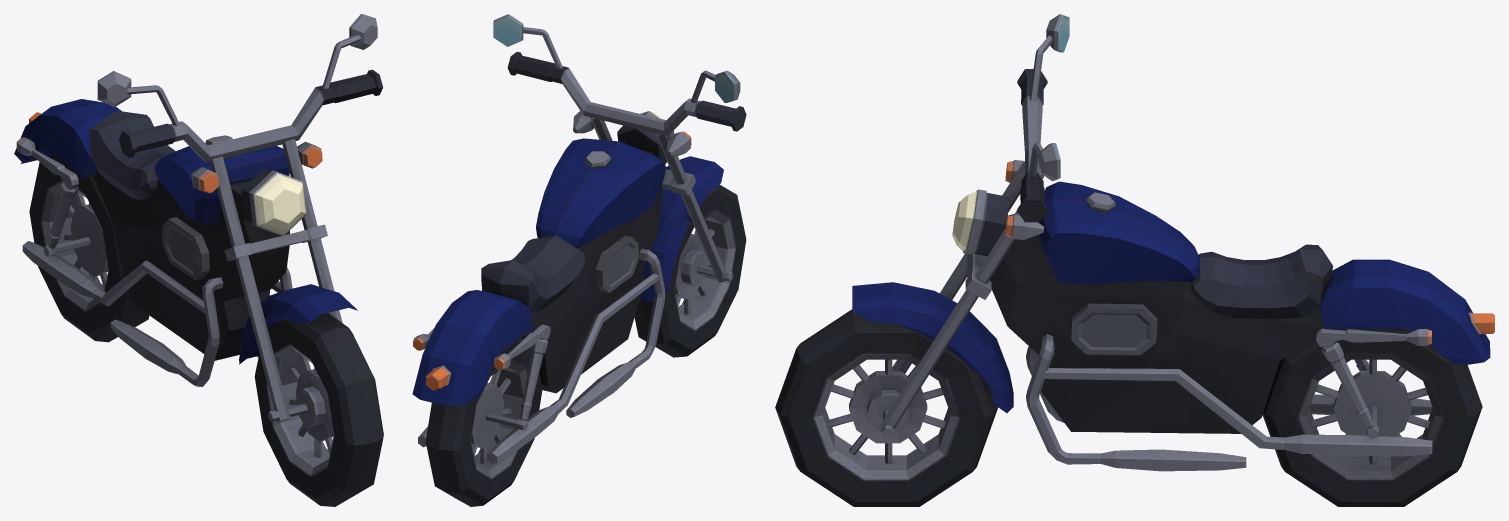
File: moto-3.glb
The picture shows the model from 3 angles, left to right: view 1: azimuth 30°, elevation 25°; view 2: azimuth 150°, elevation 25°; view 3: azimuth 270°, elevation 25°; orthographic projection. The views are drawn at different scales.
Visible parts, largest first — view 1: Motorcycle_mesh; view 2: Motorcycle_mesh; view 3: Motorcycle_mesh.
Part boxes in pixels (x1,y1,x2,y2): Motorcycle_mesh: (14, 14, 383, 506); Motorcycle_mesh: (412, 14, 746, 506); Motorcycle_mesh: (775, 14, 1494, 506).
Bounding box in the file's own units: 0.8032 × 1.11 × 1.7.
1 material, 1 textured.
